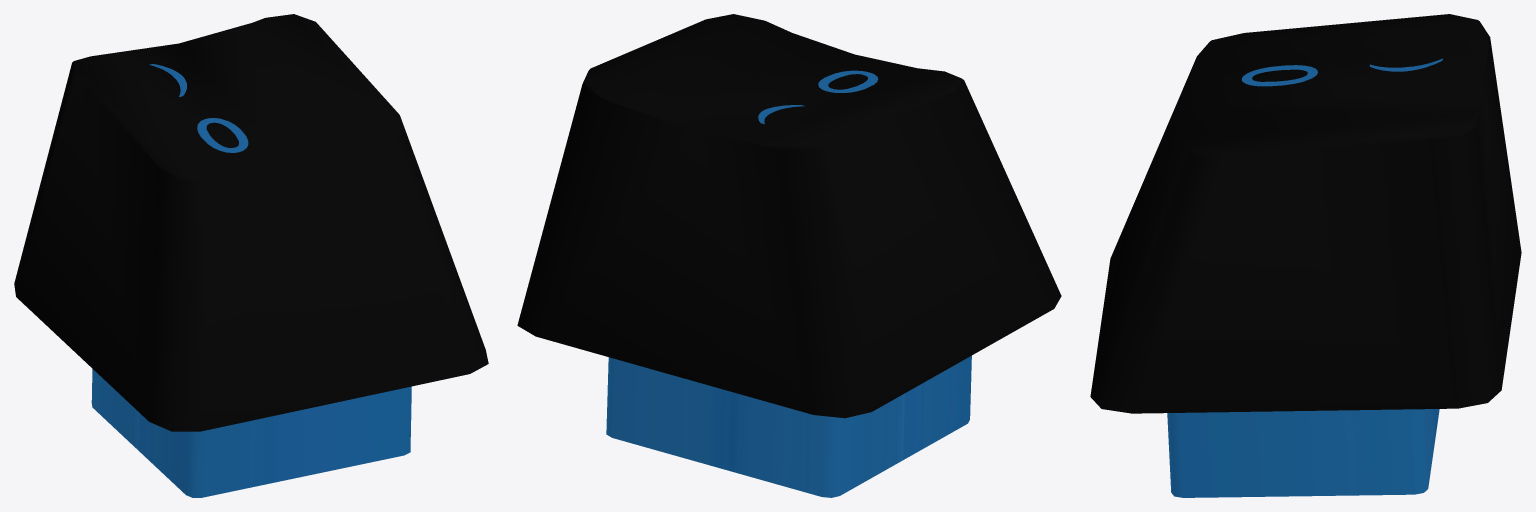
Rendered from key_0-RENclQln.glb.
3 views of the same model, side by side, from view 1: azimuth 30°, elevation 25°; view 2: azimuth 150°, elevation 25°; view 3: azimuth 270°, elevation 25° (orthographic). The views are drawn at different scales.
Visible parts, largest first — view 1: StudyShelf_600; view 2: StudyShelf_600; view 3: StudyShelf_600.
Part boxes in pixels (left/top/right/bottom): StudyShelf_600: left=14, top=14, right=488, bottom=497; StudyShelf_600: left=517, top=14, right=1061, bottom=497; StudyShelf_600: left=1090, top=14, right=1521, bottom=497.
Size of the model in its own units: 4.35 by 4.14 by 4.35.
Materials: 2 (1 with a texture image).
